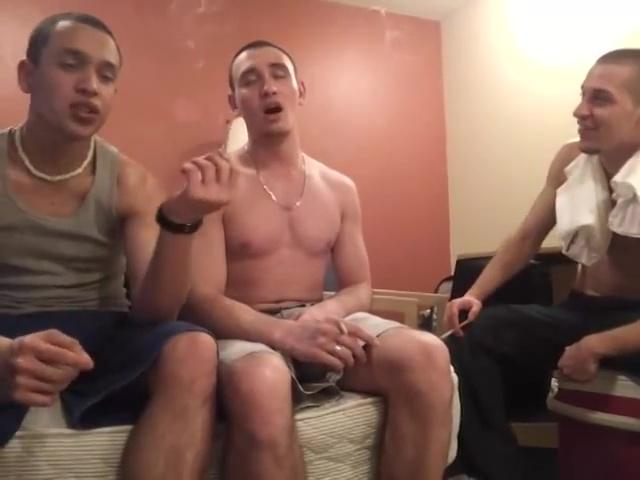cigarette: (437, 317, 477, 344), (333, 318, 355, 339)
